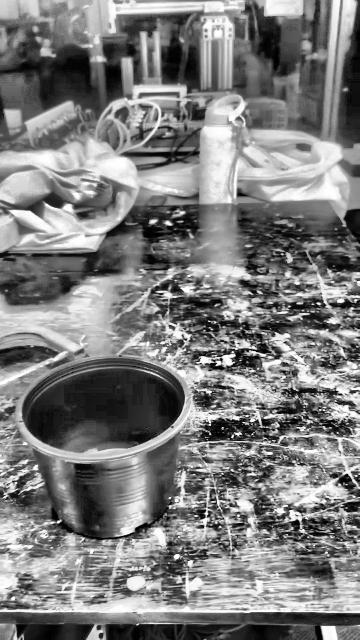pot: (16, 355, 191, 538)
